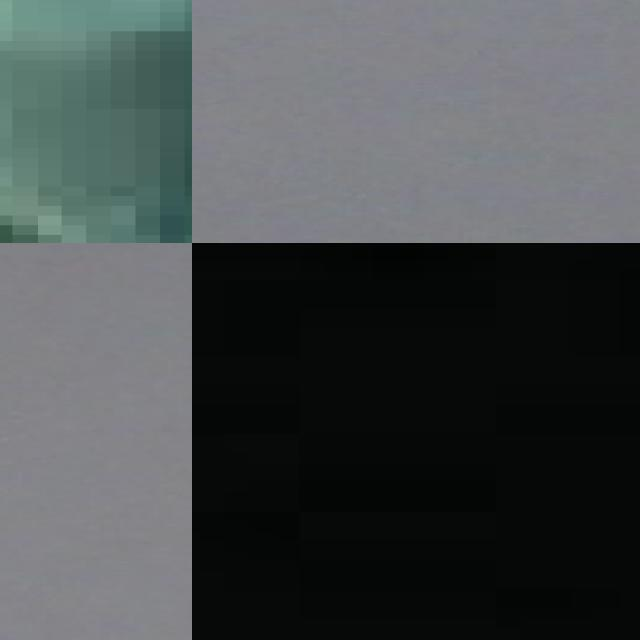fish: (192, 243, 640, 640), (0, 0, 192, 243)
